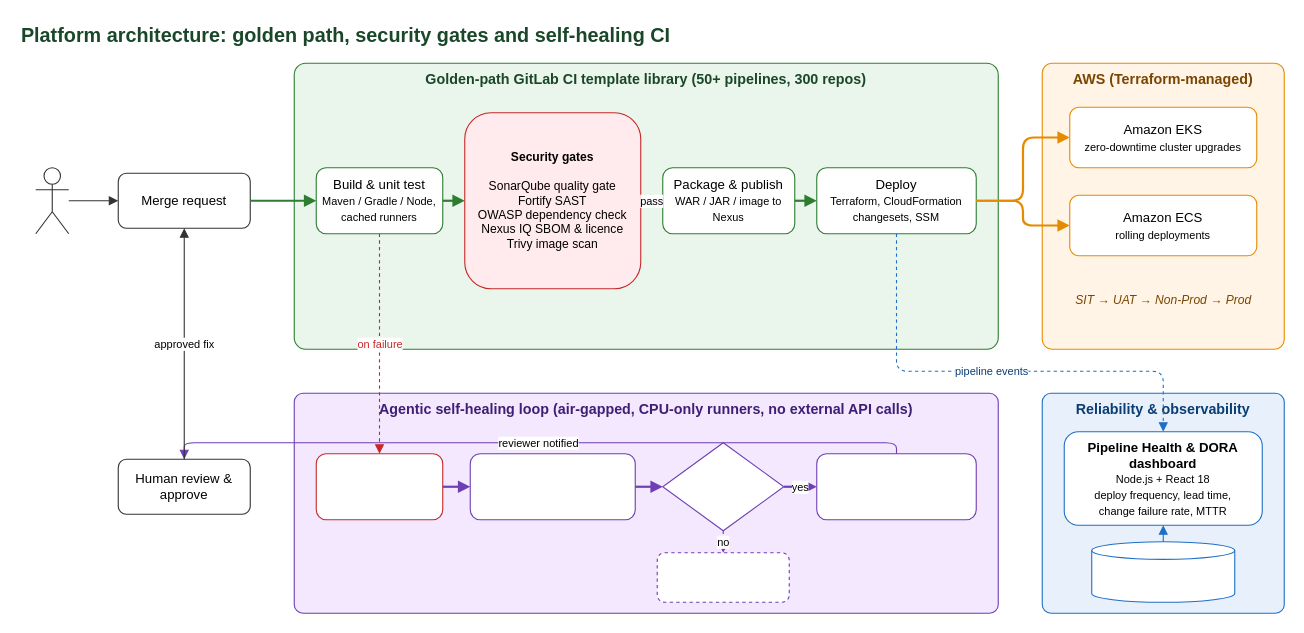
This 1304x633 diagram has some shape labels left out. Each missing label, with the centre of its shape:
Analysis only engineer fixes: pixel 722 577
Confidence ≥ 80%?: pixel 723 486
Developer: pixel 52 200
Failed job logs + pipeline YAML: pixel 379 486
GitLab API + Elasticsearch: pixel 1163 571
Phase 1: LLM failure analysis Qwen3-Coder on Ollama: pixel 552 486
Phase 2: Draft MR YAML fix on isolated branch, never auto-merged: pixel 896 486
